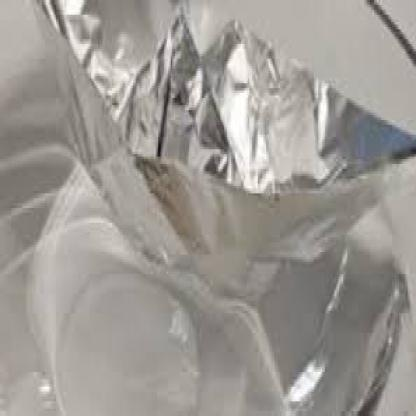METAL: (0, 0, 415, 414)
